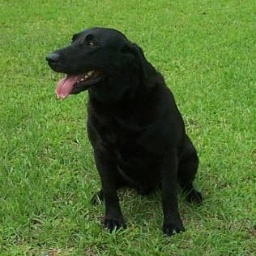dog: (46, 25, 214, 233)
